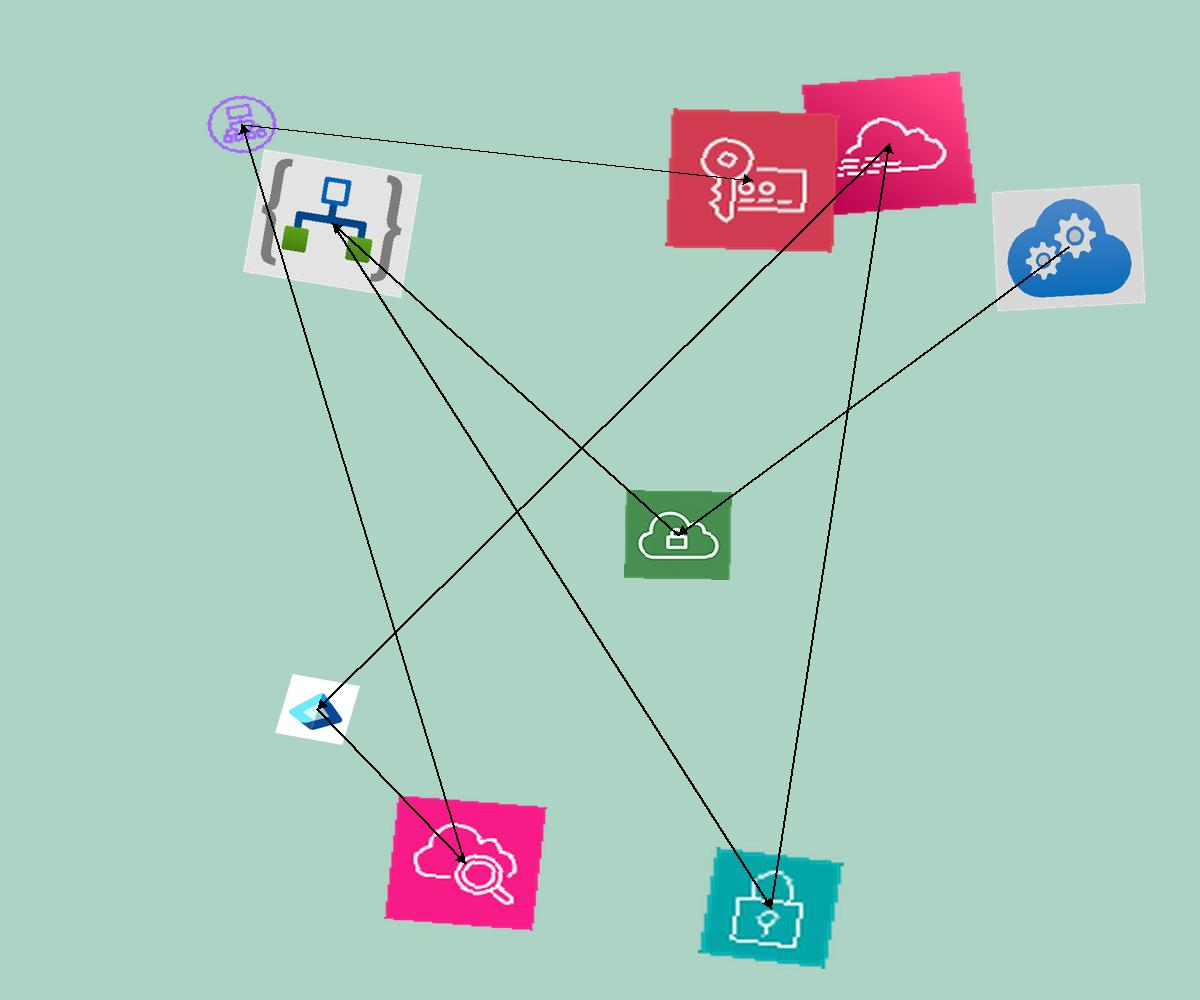AWS-CloudTrail: (800, 70, 978, 218)
AWS-CloudWatch: (384, 795, 547, 931)
AWS-Key-Management-Service: (665, 108, 840, 253)
AWS-Private-subnet: (698, 847, 844, 969)
AWS-Private_vpc: (624, 490, 732, 580)
AWS-Res_Elastic-Load-Balancing_Application-Load-Balancer: (197, 87, 287, 162)
Azure_cloud_services: (991, 183, 1146, 312)
Azure_integration-204-Logic-Apps: (243, 149, 422, 298)
Azure_microsoft_entra: (275, 674, 360, 745)
